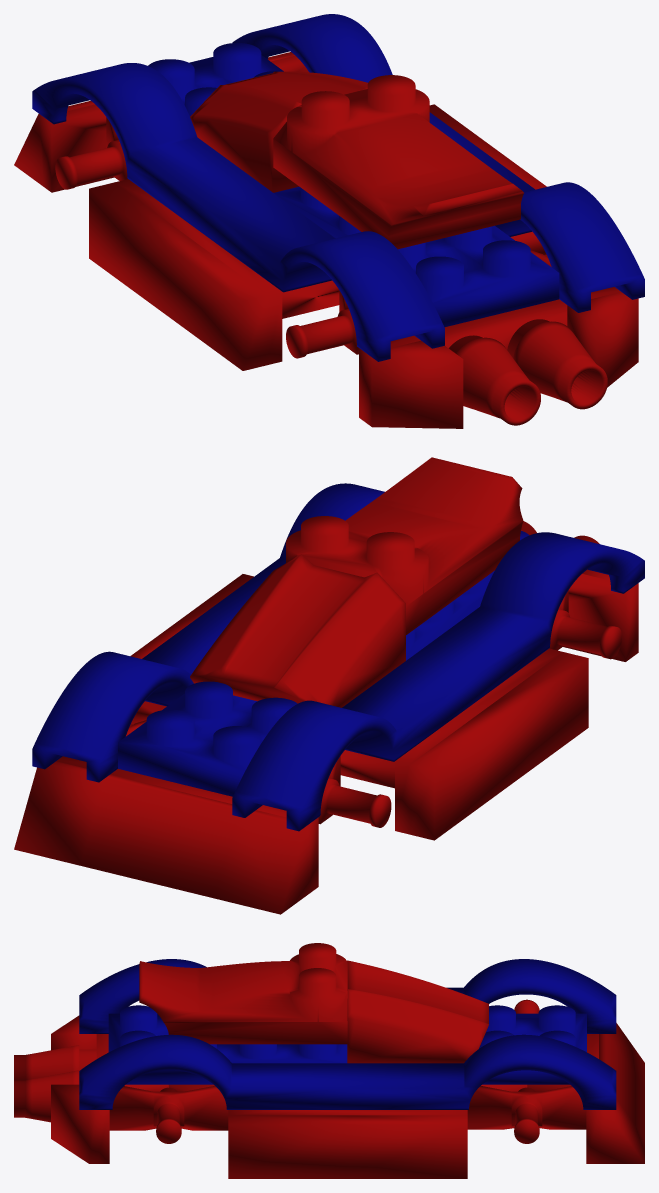
The model's file is body.dae.
The picture shows the model from 3 angles, top to bottom: view 1: azimuth 30°, elevation 25°; view 2: azimuth 150°, elevation 25°; view 3: azimuth 270°, elevation 25°; orthographic projection. The views are drawn at different scales.
Parts seen in each view (by area): view 1: original.009; view 2: original.009; view 3: original.009.
Boxes of the visible parts, box(x1,y1,x2,y2) form: original.009: box(14, 14, 644, 428); original.009: box(14, 457, 644, 914); original.009: box(14, 943, 644, 1178).
Bounding box in the file's own units: 0.412 × 0.839 × 0.2205.
